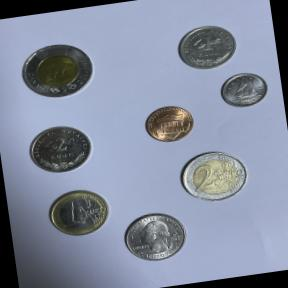coin: (14, 34, 102, 104), (173, 144, 254, 208), (22, 119, 98, 179), (42, 182, 117, 242), (116, 207, 192, 266), (139, 100, 199, 147), (216, 66, 274, 112)
